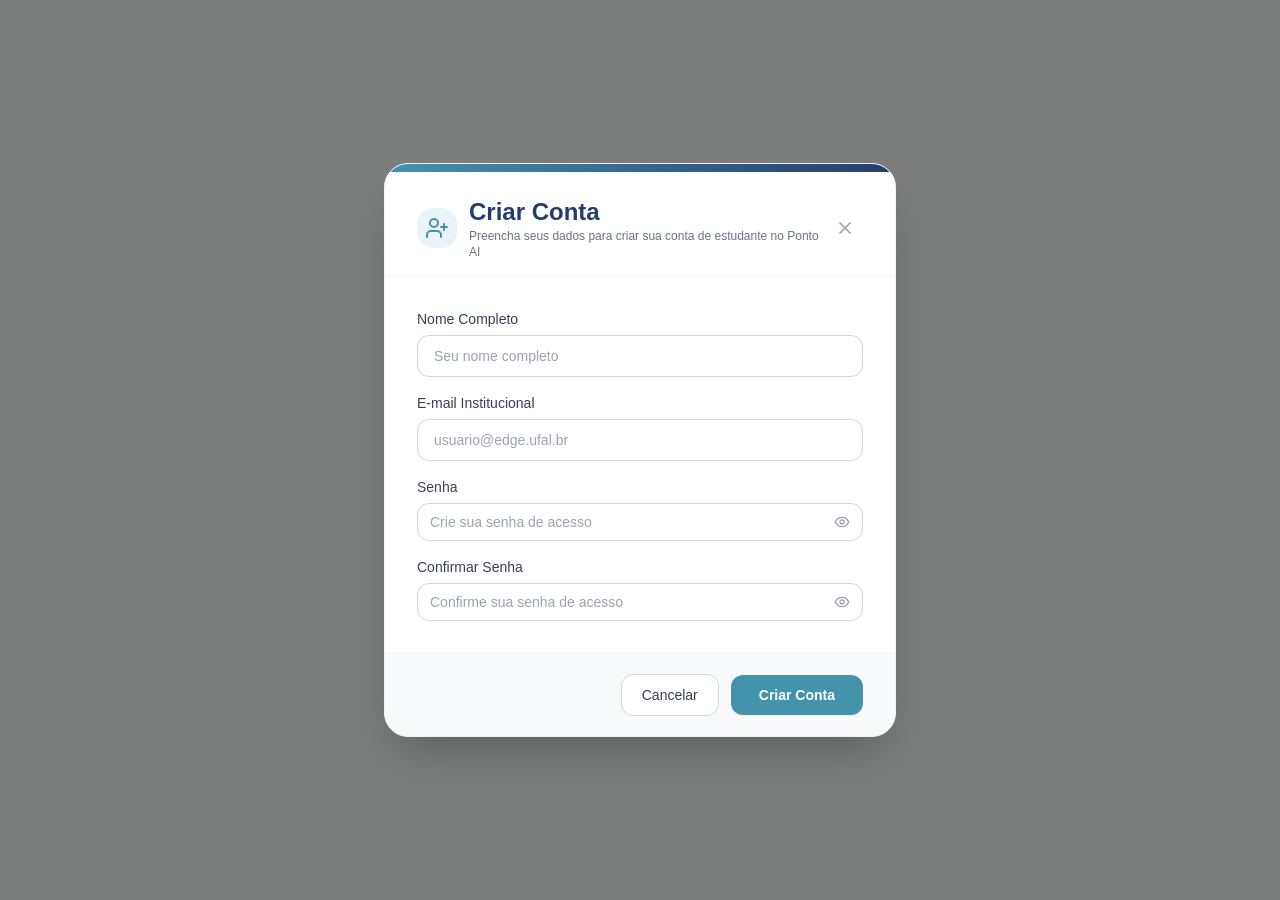
Test: CriarContaModal Component › valida que as senhas devem coincidir
Type "Aluno Teste" into the field with placeholder "Seu nome completo" at {"x": 640, "y": 356}, box x1=417 y1=335 x2=863 y2=377
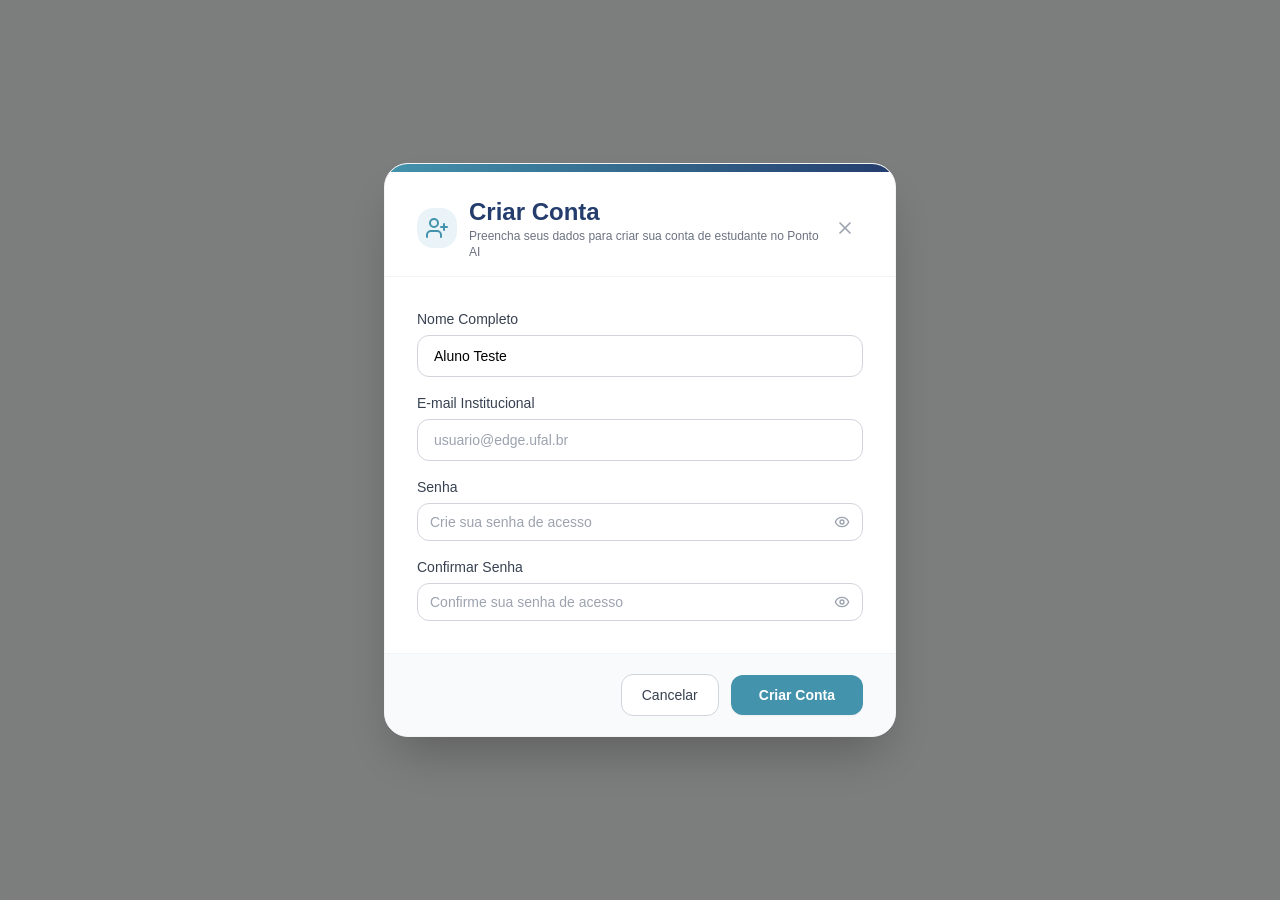
Type "aluno@edge.ufal.br" into the field with placeholder "usuario@edge.ufal.br" at {"x": 640, "y": 440}, box x1=417 y1=419 x2=863 y2=461
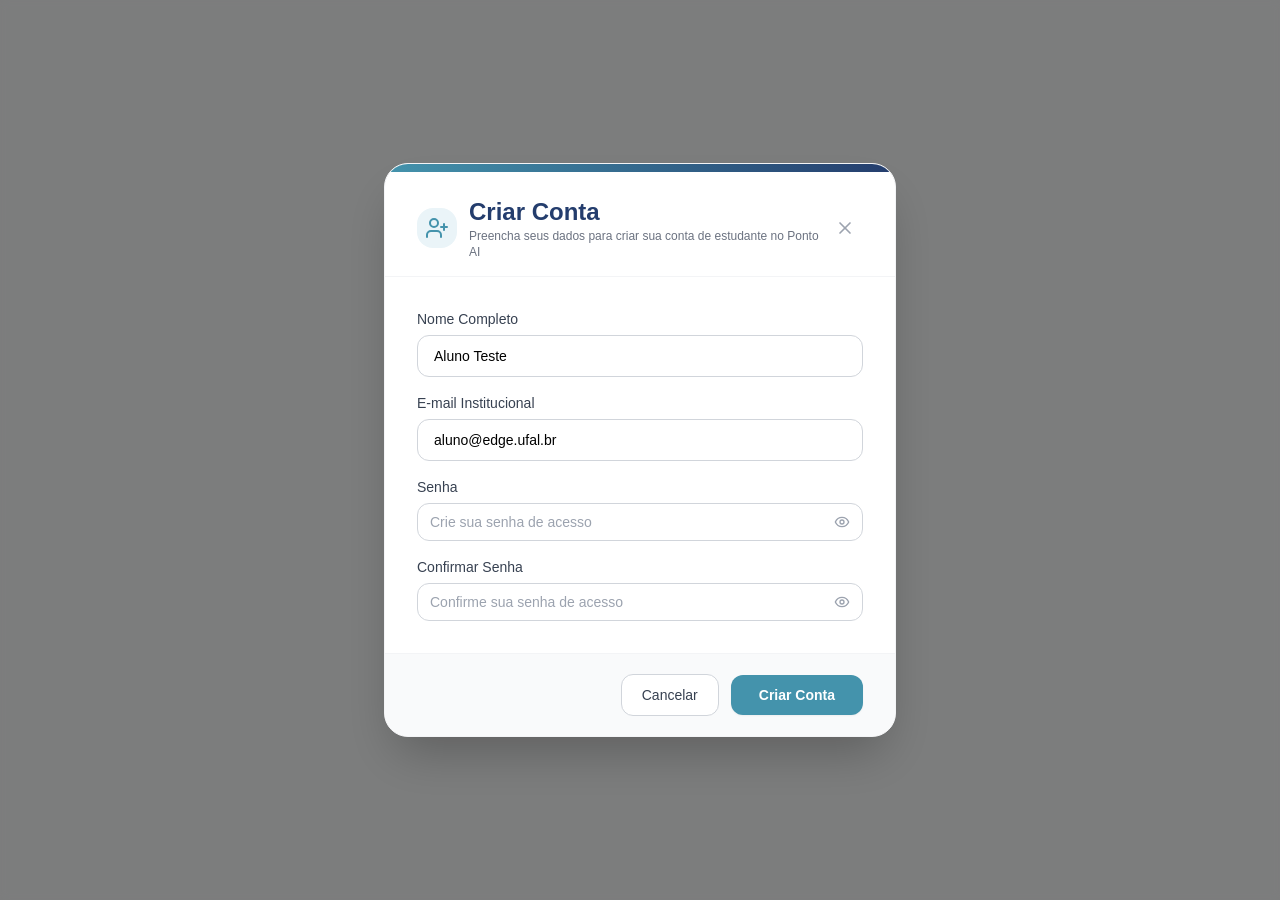
Type "Password123!" into the password field with placeholder "Crie sua senha de acesso" at {"x": 628, "y": 522}, box x1=430 y1=512 x2=826 y2=532
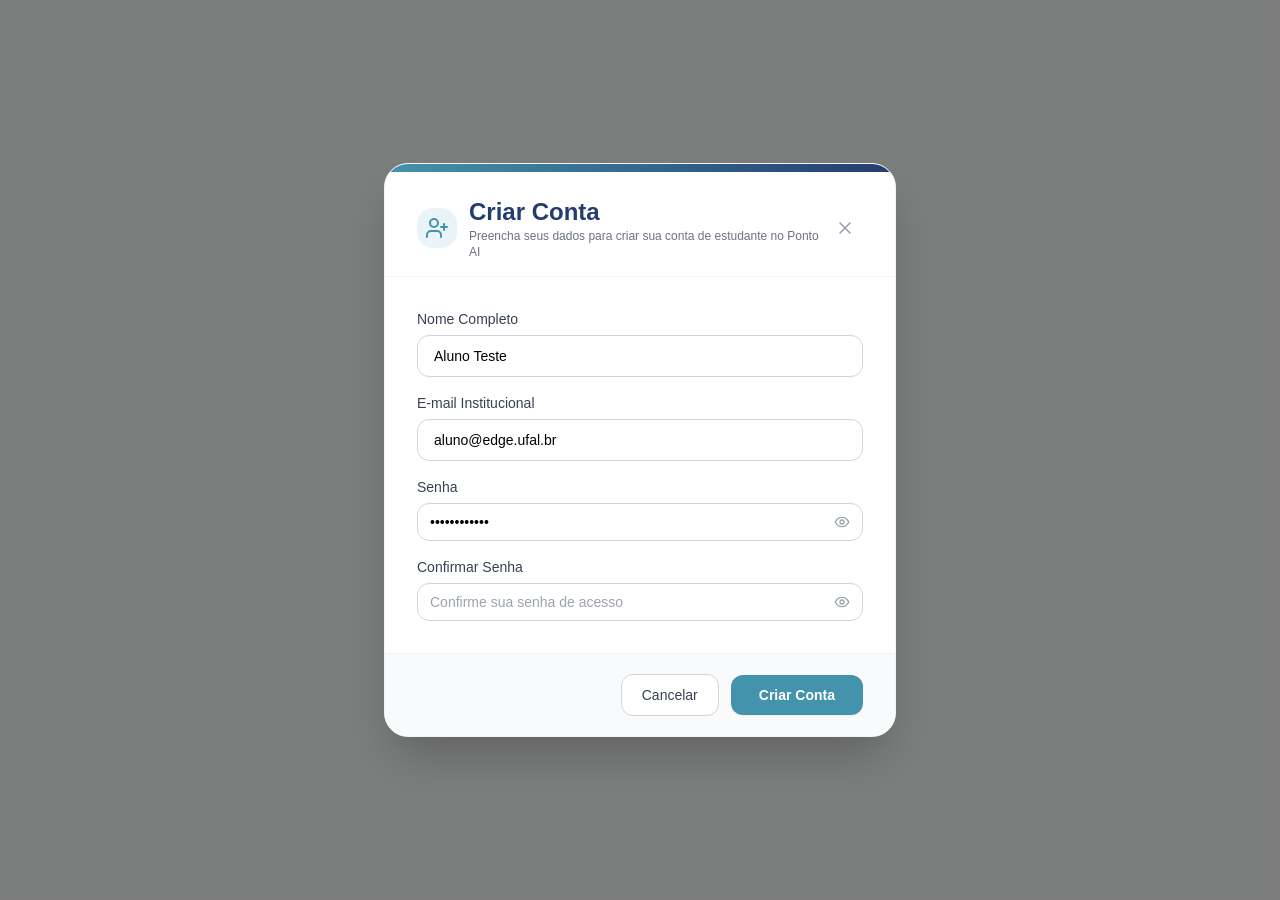
Type "DifferentPassword123!" into the password field with placeholder "Confirme sua senha de acesso" at {"x": 628, "y": 602}, box x1=430 y1=592 x2=826 y2=612
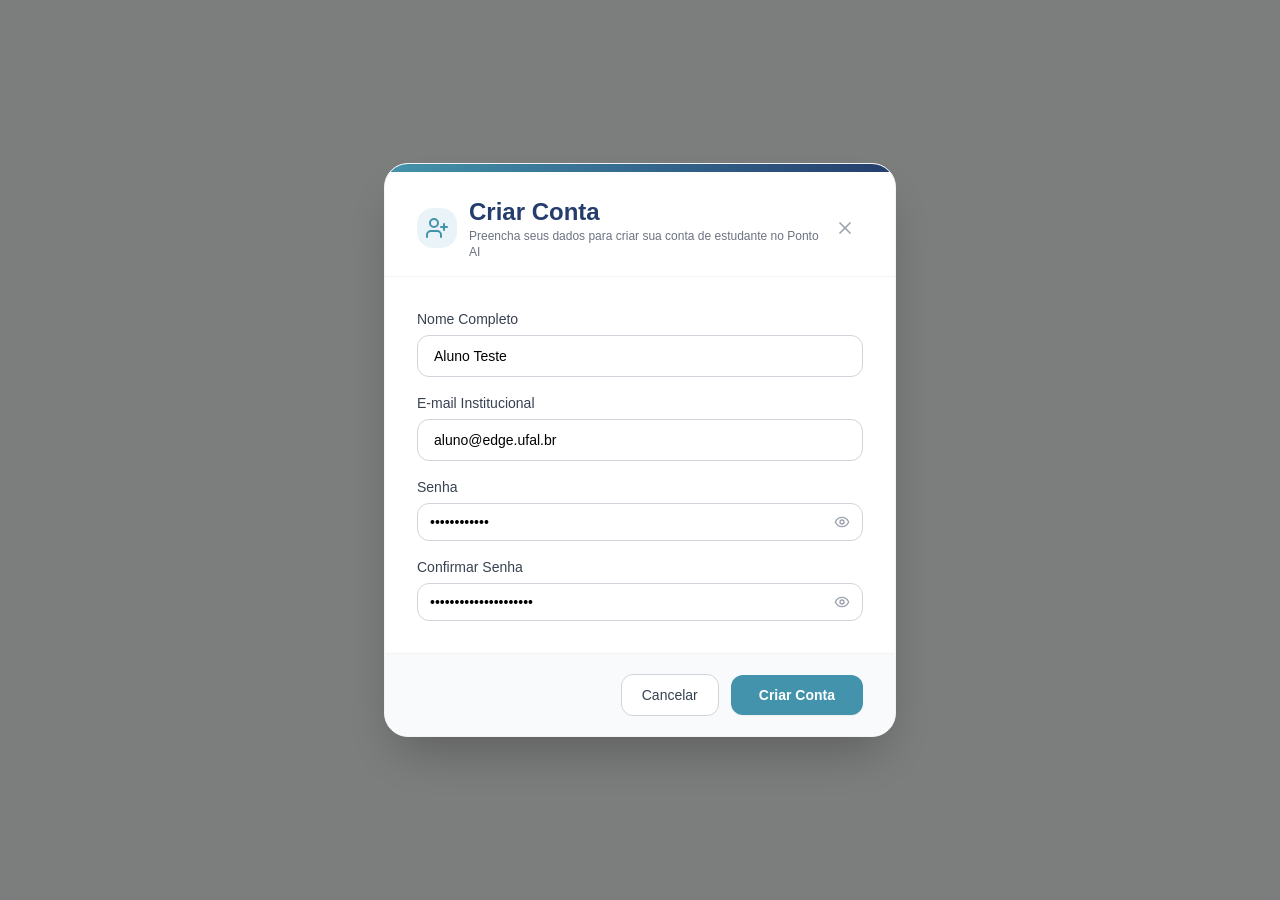
Click the button "Criar Conta" at {"x": 797, "y": 695}, box x1=731 y1=675 x2=863 y2=715
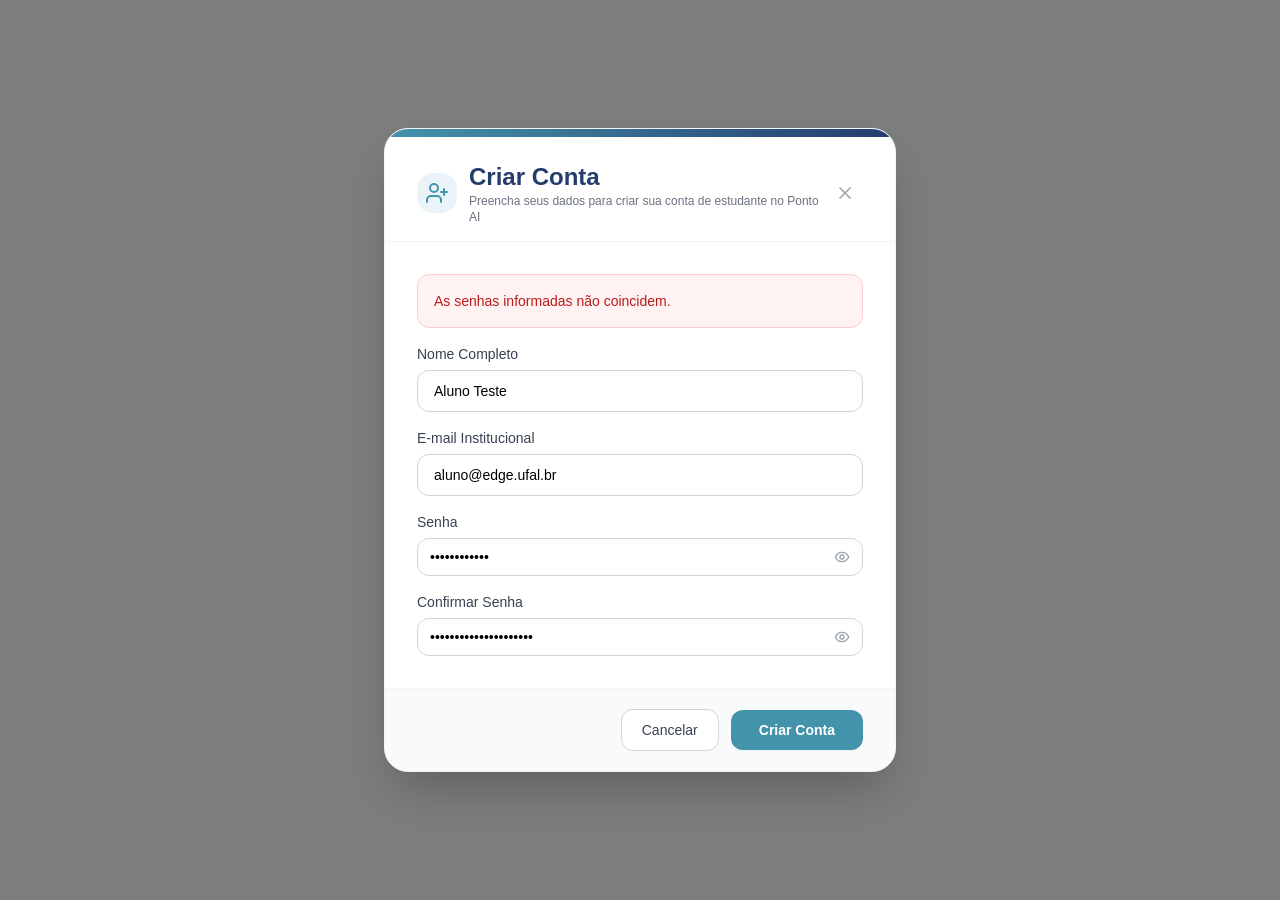
Now the text "As senhas informadas não coincidem." is shown, box x1=417 y1=274 x2=863 y2=328
